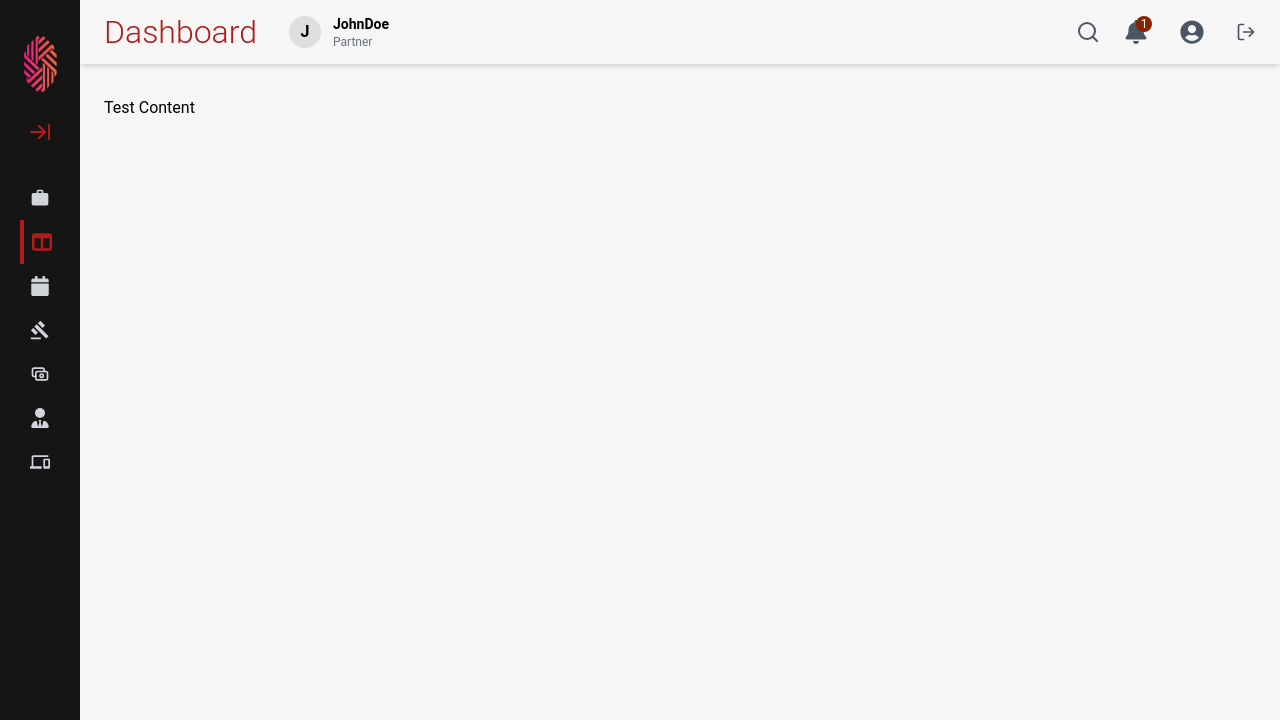
Test case: Layout Component › test toggle search visibility on icon click
This screenshot has width=1280, height=720.
Expected: the field with placeholder "Search..." is not shown
Step 1. Click the icon named "search" → (1088, 32), box [1076, 20, 1100, 44]
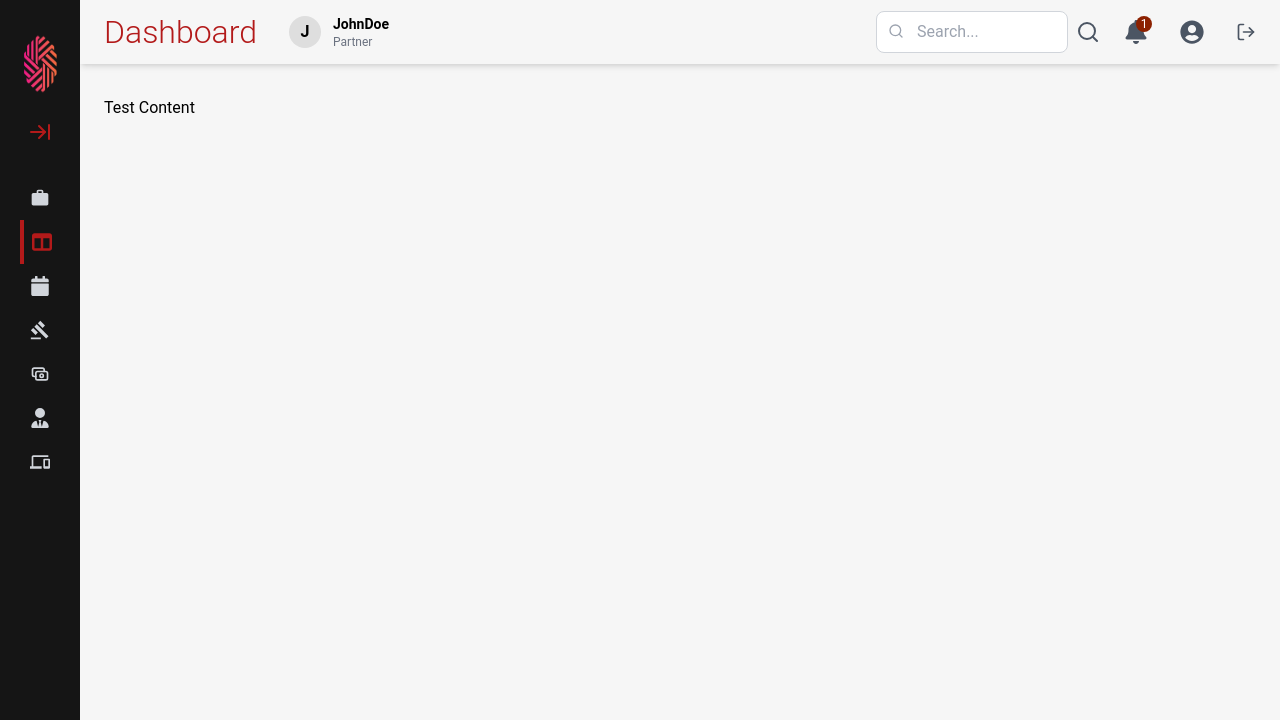
Result: the field with placeholder "Search..." is shown at [876, 11, 1068, 53]
# Click the search icon again to hide the search input
Step 2. Click the icon named "search" → (1088, 32), box [1076, 20, 1100, 44]
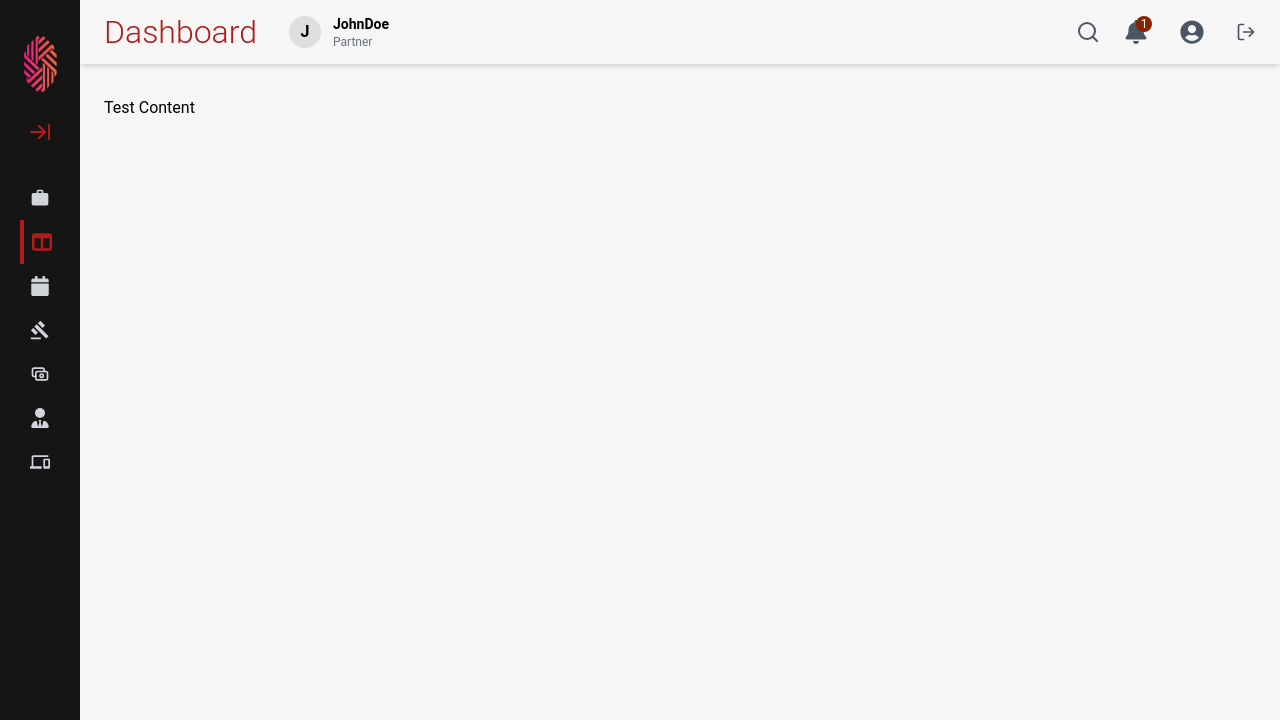
Result: the field with placeholder "Search..." is gone
